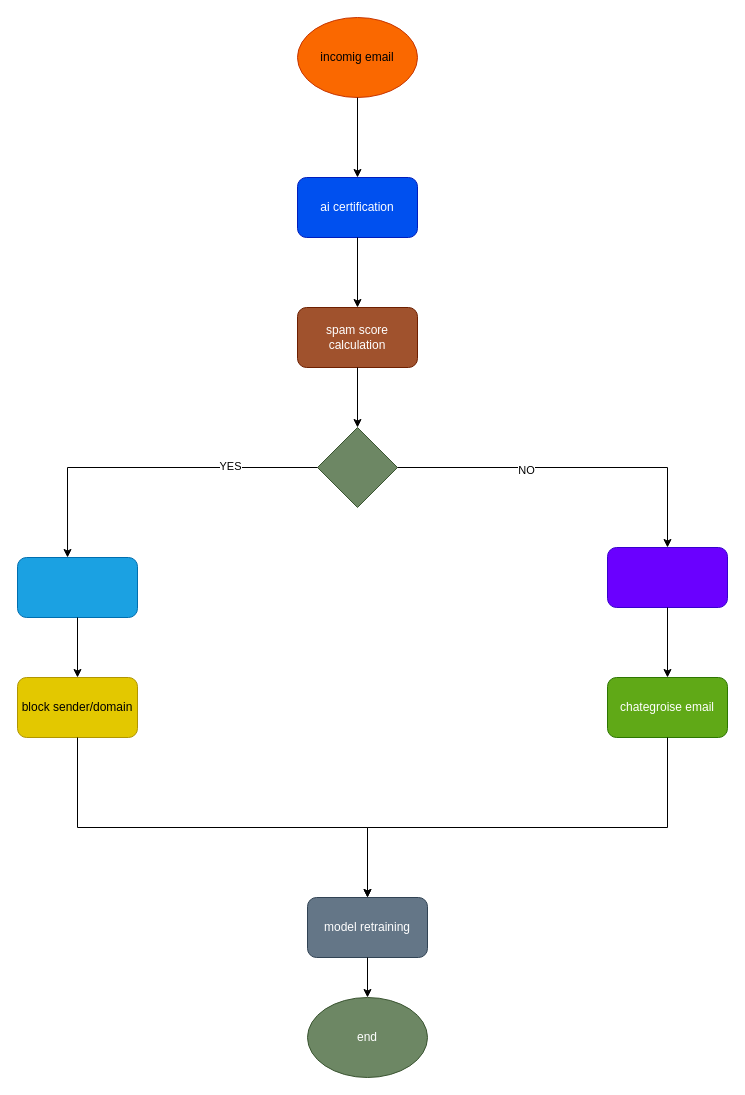
Image size: 745x1095. Some labels were removed from this diagram. The shapes that lost their labels are listed below. From the top down, each one's box as (x1, y1, x2, y2) in pixels, then its label:
(316, 426, 398, 508): is score> threshold
(16, 556, 138, 618): move to spam
(606, 546, 728, 608): move to inbox
